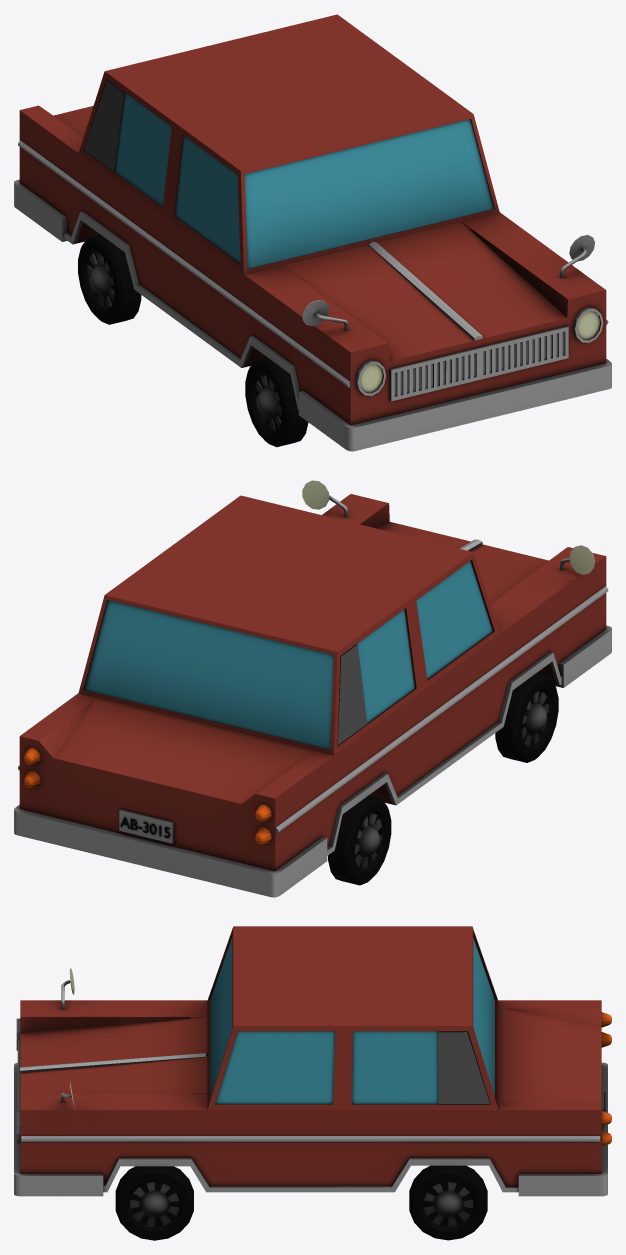
File: Car2.fbx
3 renders of one model, top to bottom at view 1: azimuth 30°, elevation 25°; view 2: azimuth 150°, elevation 25°; view 3: azimuth 270°, elevation 25°, orthographic. The views are drawn at different scales.
Visible parts, largest first — view 1: Car2, Bwheels right2, Fwheels right2; view 2: Car2, Bwheels right2, Fwheels right2; view 3: Car2, Bwheels Left2, Fwheels Left2.
Boxes of the visible parts, left/top/right/bottom form: Car2: left=14, top=14, right=611, bottom=451; Bwheels right2: left=78, top=234, right=141, bottom=324; Fwheels right2: left=245, top=357, right=308, bottom=447; Car2: left=14, top=480, right=611, bottom=897; Bwheels right2: left=328, top=795, right=391, bottom=885; Fwheels right2: left=495, top=673, right=558, bottom=762; Car2: left=14, top=926, right=611, bottom=1196; Bwheels Left2: left=409, top=1165, right=487, bottom=1240; Fwheels Left2: left=115, top=1166, right=193, bottom=1240.
Bounding box in the file's own units: 187 × 144 × 376.
5 materials, 5 textured.
